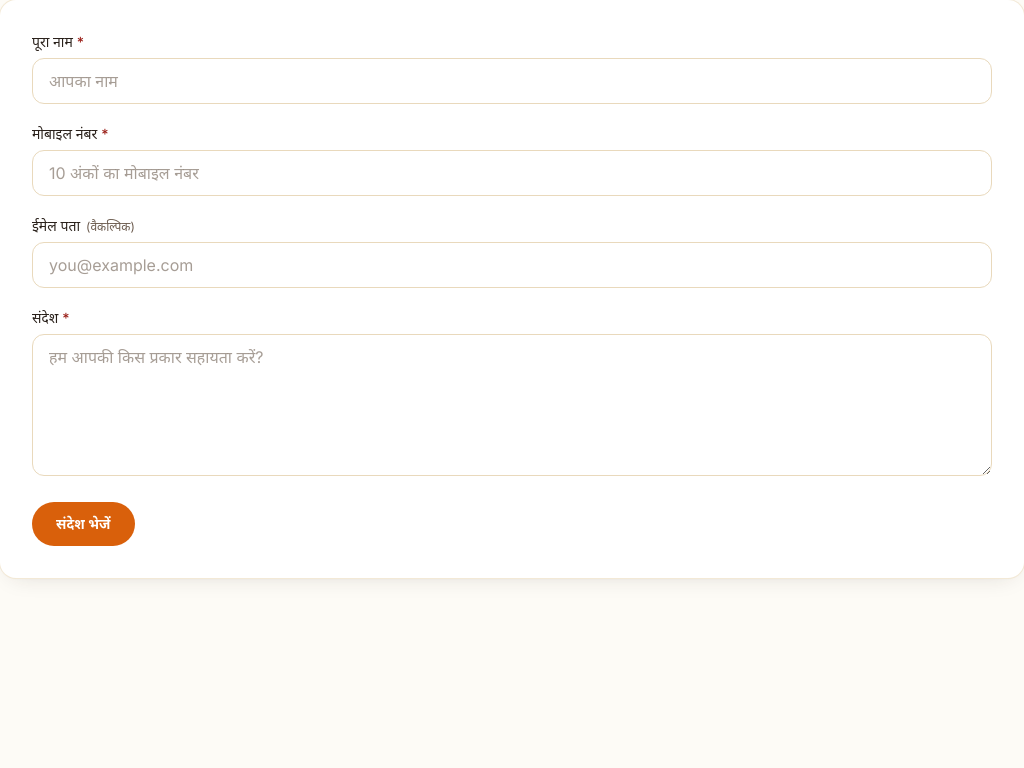
Test case: ContactForm › rejects a mobile number that does not match the Indian 10-digit pattern
In the field labelled "मोबाइल नंबर*": (512, 173) [32, 150, 992, 196], type "12345"
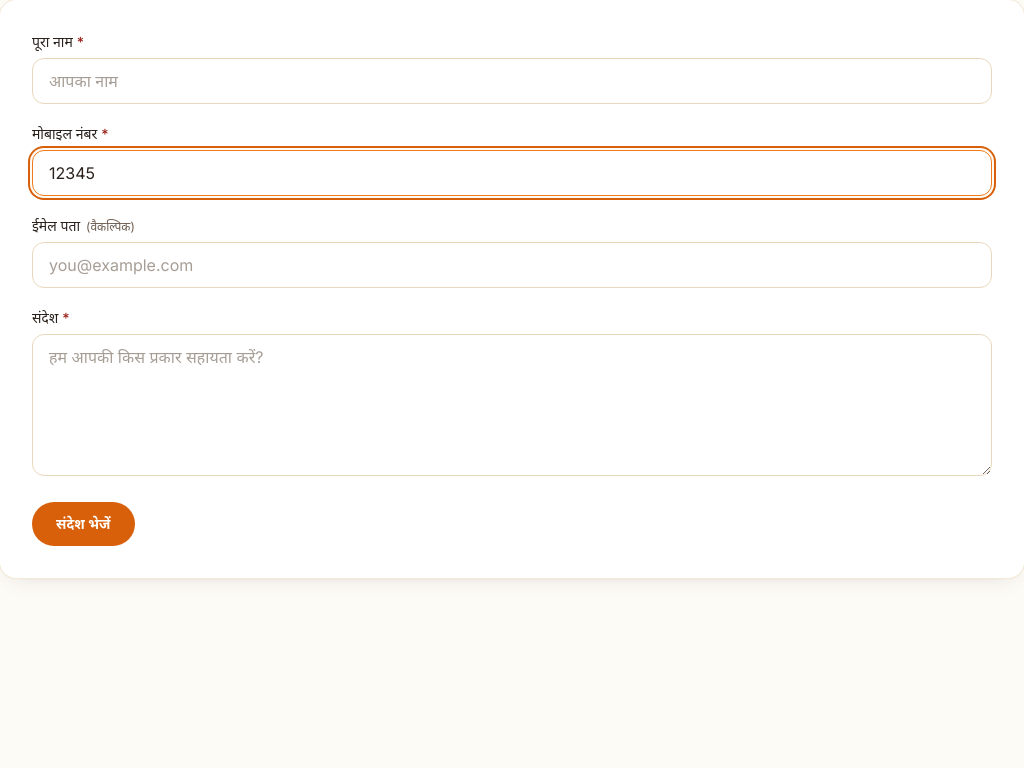
Click the button "संदेश भेजें": click(83, 524) [32, 502, 134, 546]
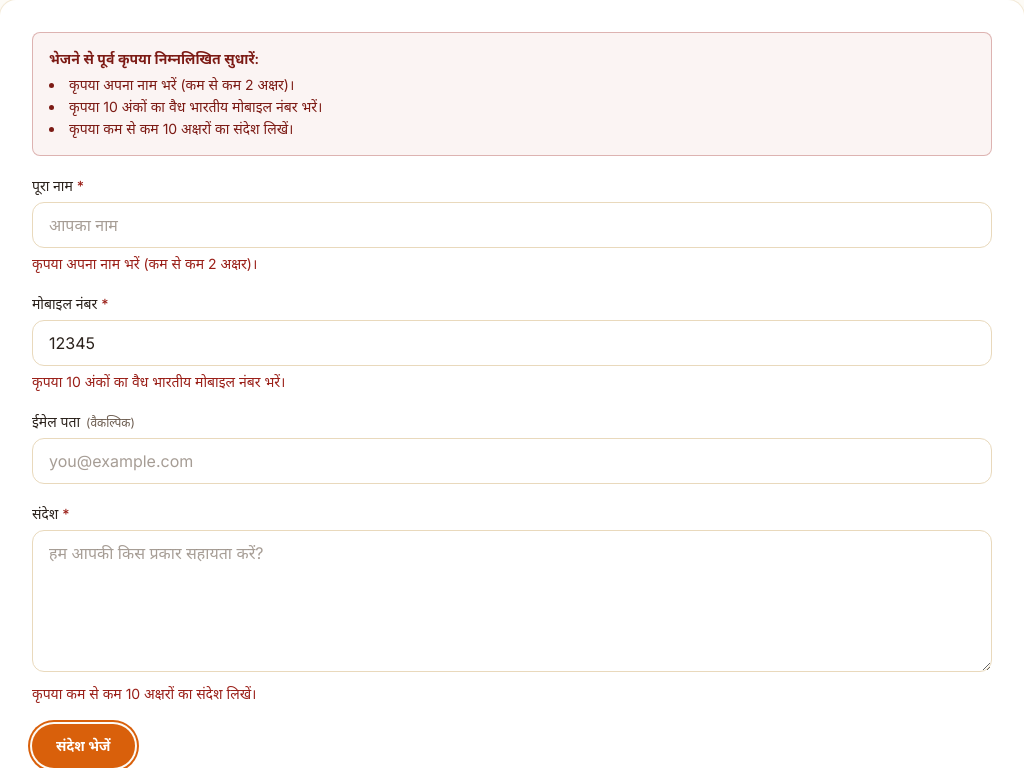
Check: the message is shown, box [32, 32, 992, 156]
